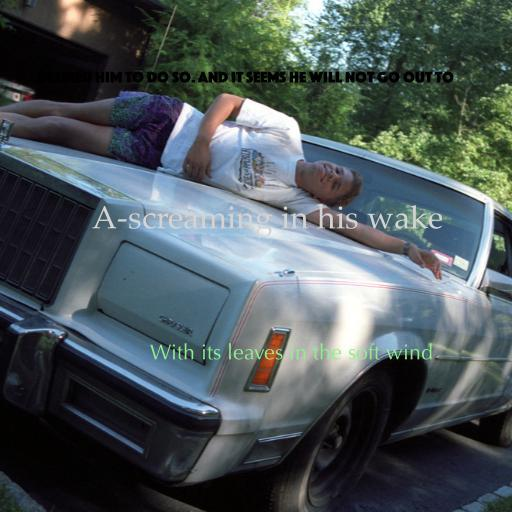Optima: (149, 343, 433, 360)
Palatino: (91, 203, 443, 238)
Phosphate: (36, 71, 454, 83)
